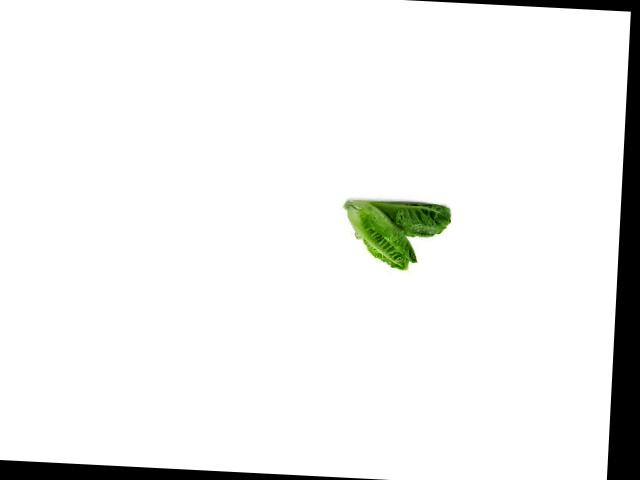lettuce: (365, 193, 459, 241)
